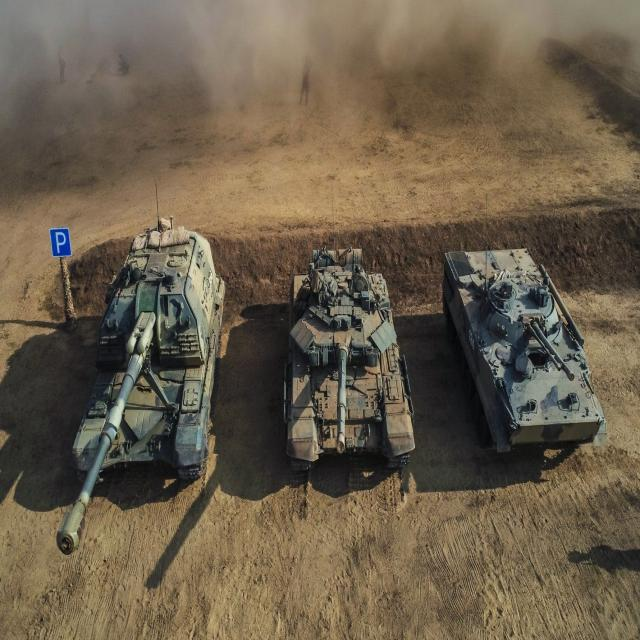tank: (61, 206, 229, 547), (442, 248, 608, 454), (280, 242, 417, 470)
